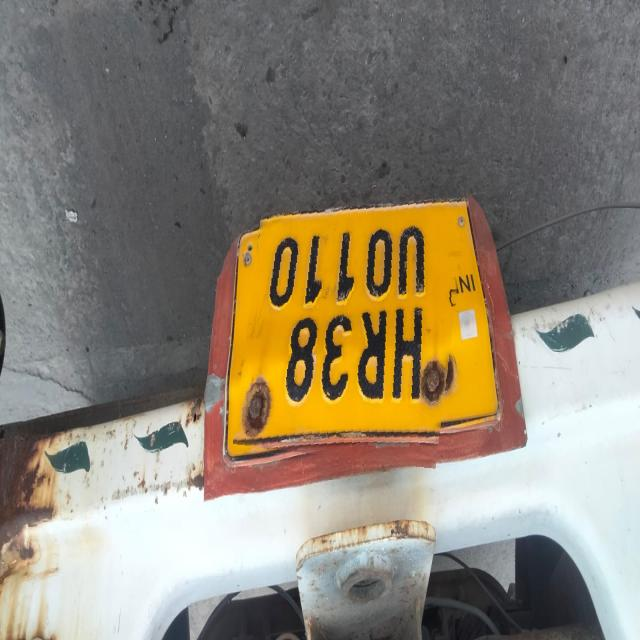License-plate: (242, 144, 464, 463)
